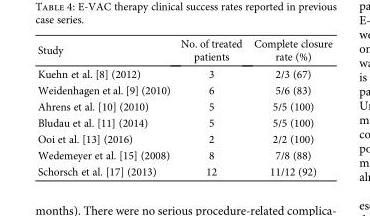table: (36, 36, 331, 177)
table column: (36, 36, 174, 177), (247, 36, 331, 177), (174, 36, 247, 177)
table column header: (36, 36, 331, 64)
table row: (36, 36, 331, 64), (36, 64, 331, 81), (36, 81, 331, 98), (36, 146, 331, 163), (36, 98, 331, 114), (36, 114, 331, 130), (36, 130, 331, 146), (36, 163, 331, 177)
